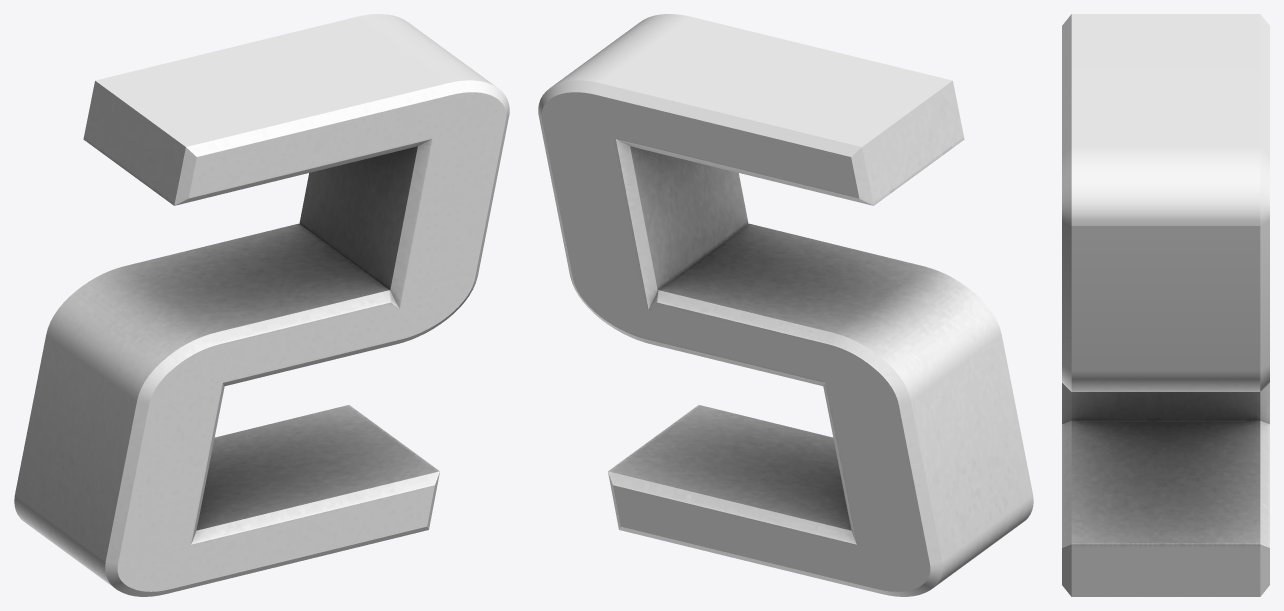
Rendered from label_2.fbx.
3 views of the same model, side by side, from view 1: azimuth 30°, elevation 25°; view 2: azimuth 150°, elevation 25°; view 3: azimuth 270°, elevation 25° (orthographic). The views are drawn at different scales.
Parts seen in each view (by area): view 1: label_2__1_-_Dasd_LOD1; view 2: label_2__1_-_Dasd_LOD1; view 3: label_2__1_-_Dasd_LOD1.
Boxes of the visible parts, x1,y1,x2,y2 form: label_2__1_-_Dasd_LOD1: (14, 14, 509, 596); label_2__1_-_Dasd_LOD1: (538, 14, 1033, 596); label_2__1_-_Dasd_LOD1: (1062, 14, 1269, 596).
Bounding box in the file's own units: 5.14 × 2.2 × 5.37.
